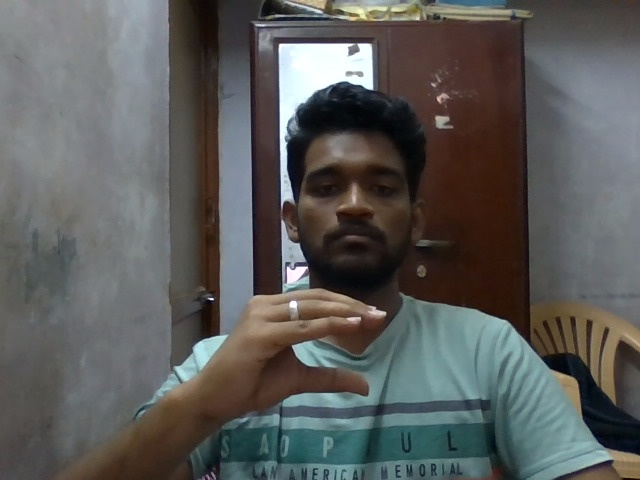C: (191, 284, 391, 428)
